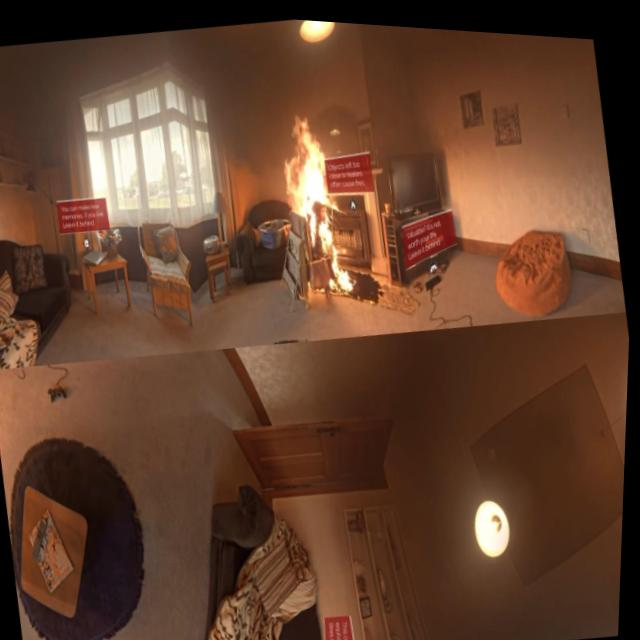fire: (271, 98, 365, 306)
